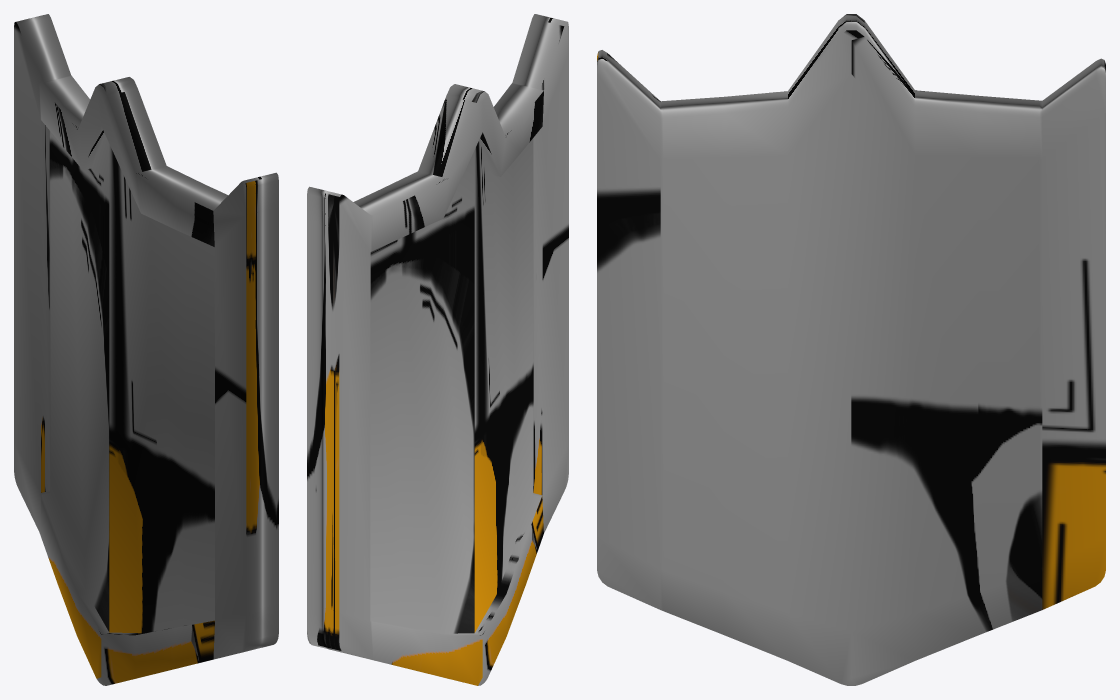
The model's file is ShieldJadi.fbx.
3 views of the same model, side by side, from view 1: azimuth 30°, elevation 25°; view 2: azimuth 150°, elevation 25°; view 3: azimuth 270°, elevation 25° (orthographic). The views are drawn at different scales.
Visible parts, largest first — view 1: Cube; view 2: Cube; view 3: Cube.
Boxes of the visible parts, bbox=[...] form: Cube: bbox=[14, 14, 278, 685]; Cube: bbox=[307, 14, 568, 685]; Cube: bbox=[597, 14, 1105, 685].
Bounding box in the file's own units: 30.64 × 284 × 200.
